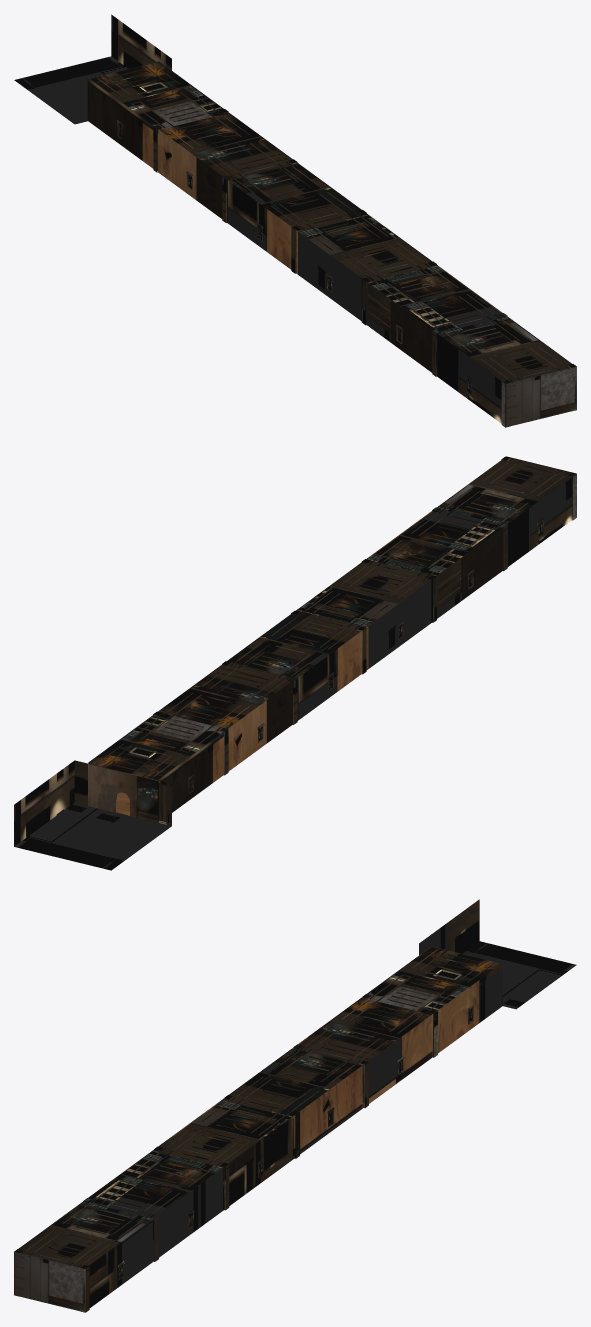
Rendered from Museum10Feb.gltf.
3 renders of one model, top to bottom at view 1: azimuth 30°, elevation 25°; view 2: azimuth 150°, elevation 25°; view 3: azimuth 330°, elevation 25°, orthographic.
Parts seen in each view (by area): view 1: Celings, Corridoor, Entrance, Khidki; view 2: Celings, Corridoor, Entrance, Khidki; view 3: Celings, Corridoor, Entrance, Khidki.
Part boxes in pixels (<box>): Celings: <box>90,62,575,384</box>; Corridoor: <box>88,61,576,427</box>; Entrance: <box>14,14,171,124</box>; Khidki: <box>117,120,472,395</box>; Celings: <box>89,458,570,780</box>; Corridoor: <box>88,456,576,812</box>; Entrance: <box>14,760,171,870</box>; Khidki: <box>118,518,543,793</box>; Celings: <box>16,947,500,1269</box>; Corridoor: <box>14,946,502,1312</box>; Entrance: <box>419,899,576,1009</box>; Khidki: <box>118,1005,473,1280</box>.
Size of the model in its own units: 13.96 by 6.01 by 119.
Materials: 1 (1 with a texture image).
